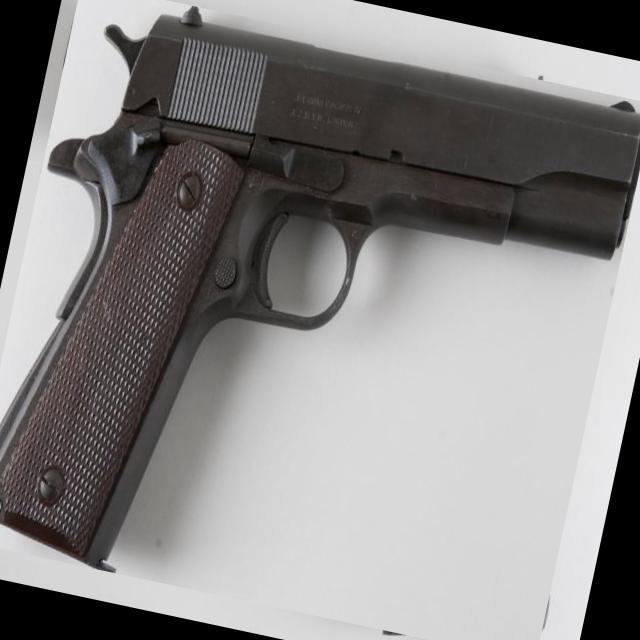Gun: (0, 7, 640, 571)
